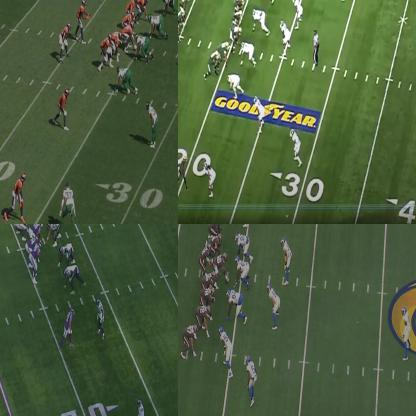CENTER: (214, 251, 230, 284), (122, 24, 135, 48), (30, 224, 44, 242), (231, 27, 242, 42)
DB: (145, 100, 157, 148), (245, 356, 256, 404), (63, 183, 76, 223), (401, 306, 410, 354), (96, 297, 105, 335), (292, 133, 301, 165), (208, 166, 216, 199), (133, 397, 145, 415)
LB: (218, 325, 234, 380), (281, 234, 292, 287), (270, 285, 282, 328), (254, 98, 265, 131), (292, 0, 303, 30), (280, 22, 291, 52)
QB: (198, 238, 212, 274), (76, 0, 88, 38), (178, 9, 186, 39)
SKILL: (9, 170, 25, 217), (196, 304, 211, 340), (56, 89, 69, 129), (60, 23, 72, 63), (182, 325, 196, 358), (64, 309, 75, 348), (178, 155, 188, 189), (139, 0, 148, 22), (180, 0, 192, 10)
